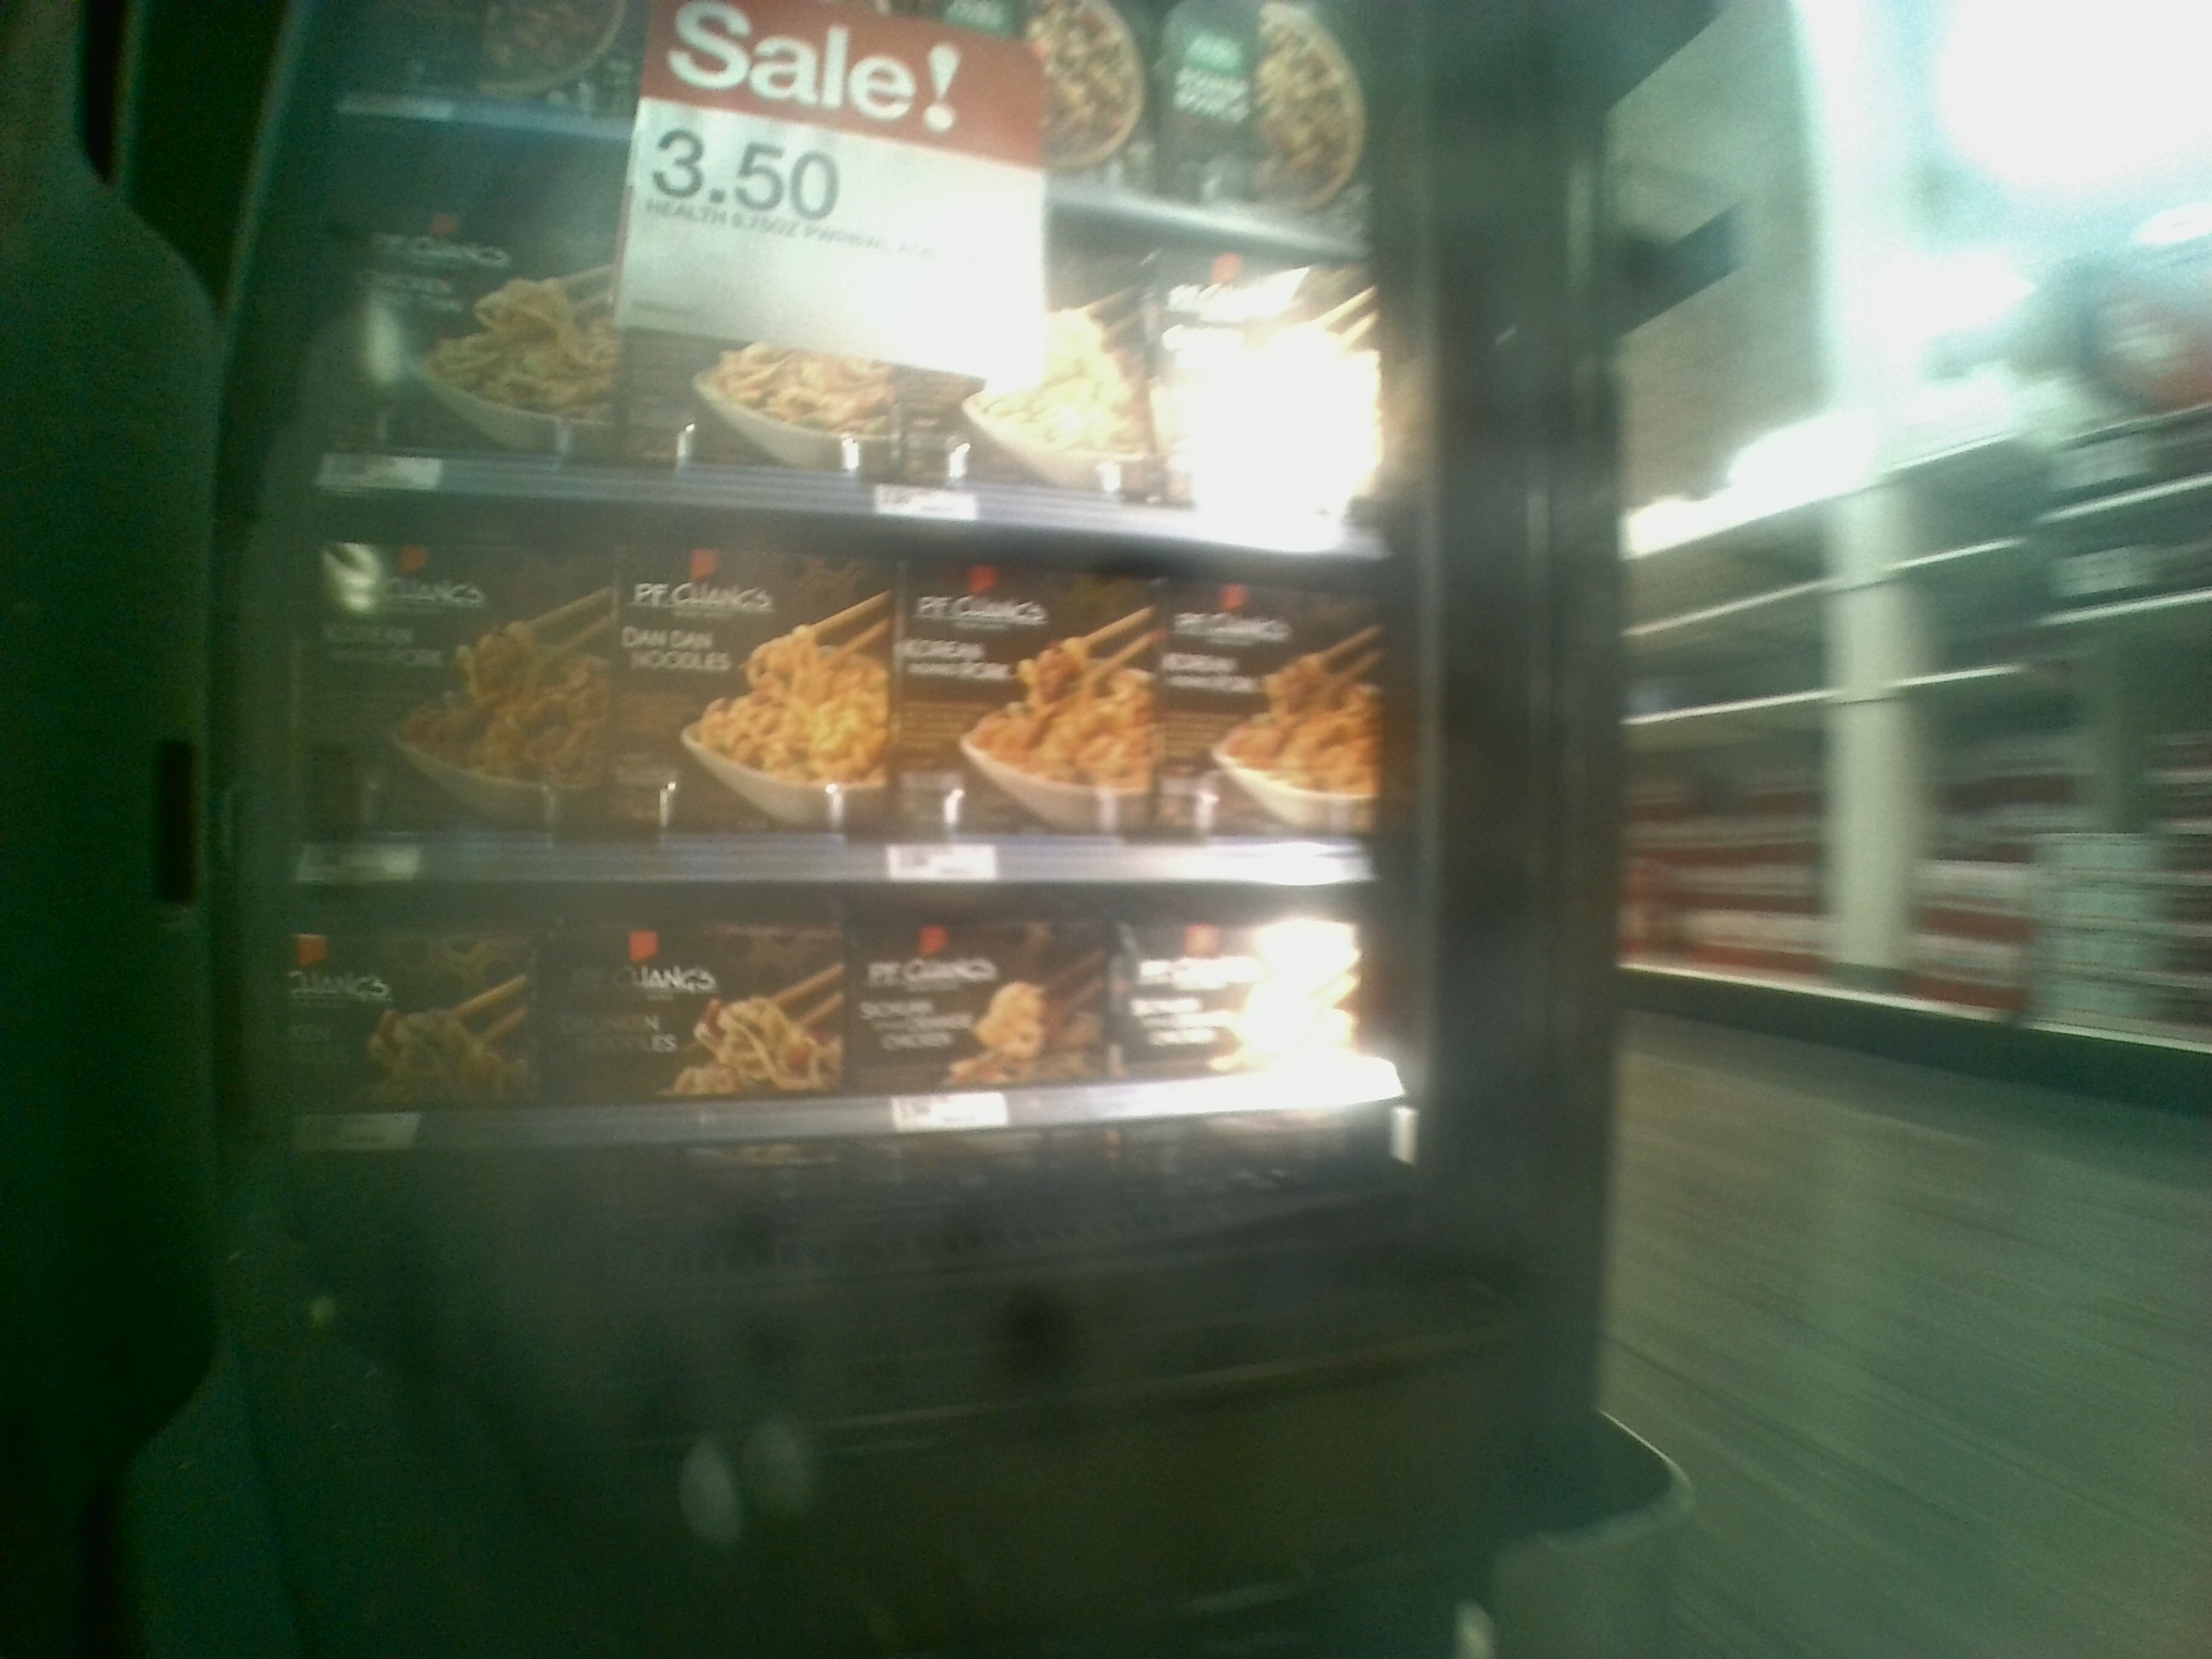shelf: (280, 885, 1423, 1316), (280, 483, 1418, 889)
